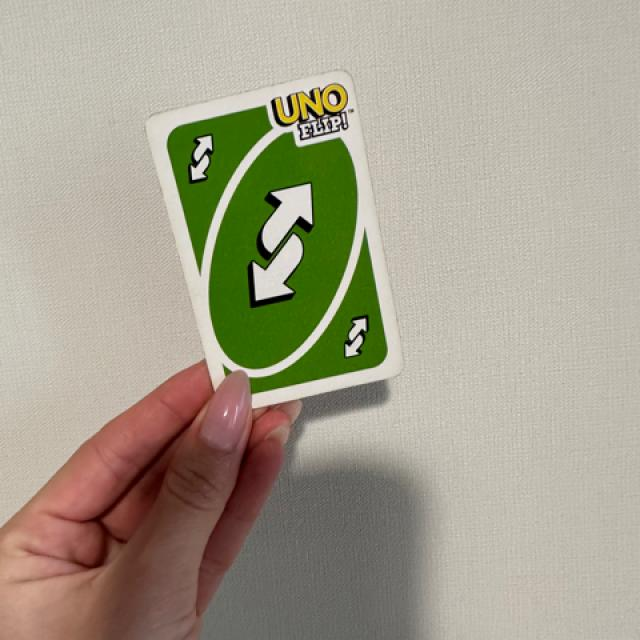lgreenrevers-20: (168, 117, 234, 196)
